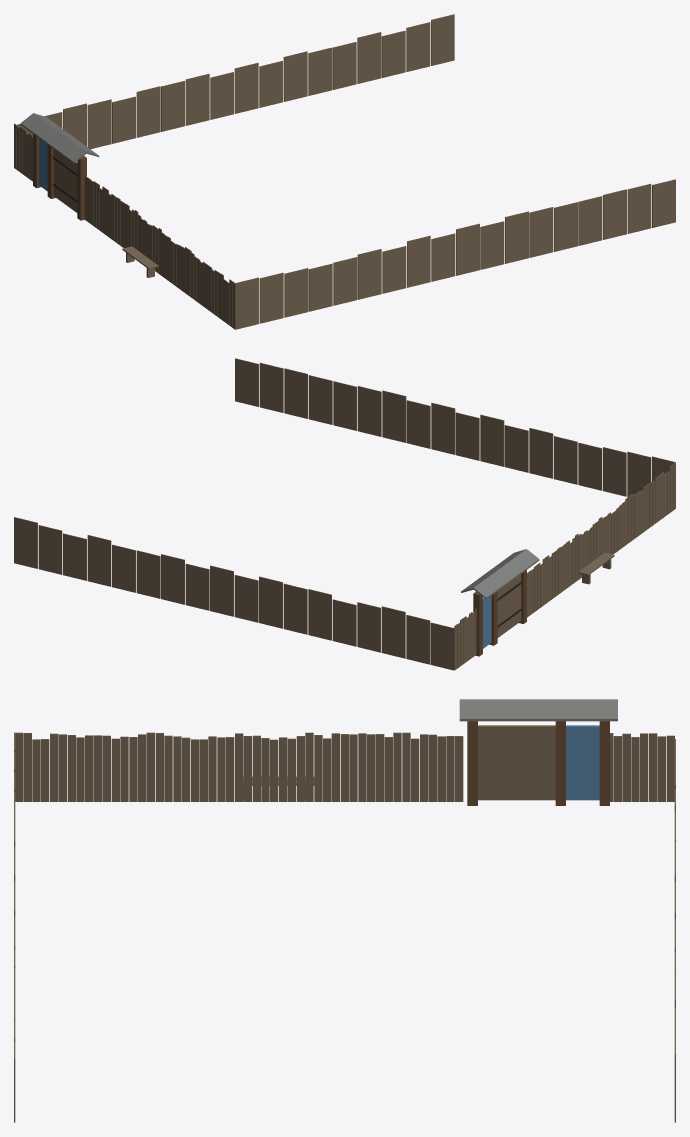
The model's file is izba-fence-2.glb.
3 views of the same model, one above another, from view 1: azimuth 30°, elevation 25°; view 2: azimuth 150°, elevation 25°; view 3: azimuth 270°, elevation 25° (orthographic). The views are drawn at different scales.
Parts seen in each view (by area): view 1: 00_#7a6a56, 04_paint2, 01_paint1; view 2: 00_#7a6a56, 04_paint2, 01_paint1; view 3: 00_#7a6a56, 04_paint2, 01_paint1, 02_paint0.
Part boxes in pixels (x1,y1,x2,y2): 00_#7a6a56: (14,14,675,329); 04_paint2: (20,113,99,163); 01_paint1: (33,134,86,220); 00_#7a6a56: (14,358,675,670); 04_paint2: (461,549,539,599); 01_paint1: (473,570,526,656); 00_#7a6a56: (14,725,675,1122); 04_paint2: (459,699,617,721); 01_paint1: (467,721,609,805); 02_paint0: (566,725,599,800).
Size of the model in its own units: 17.74 by 2.62 by 15.03.
